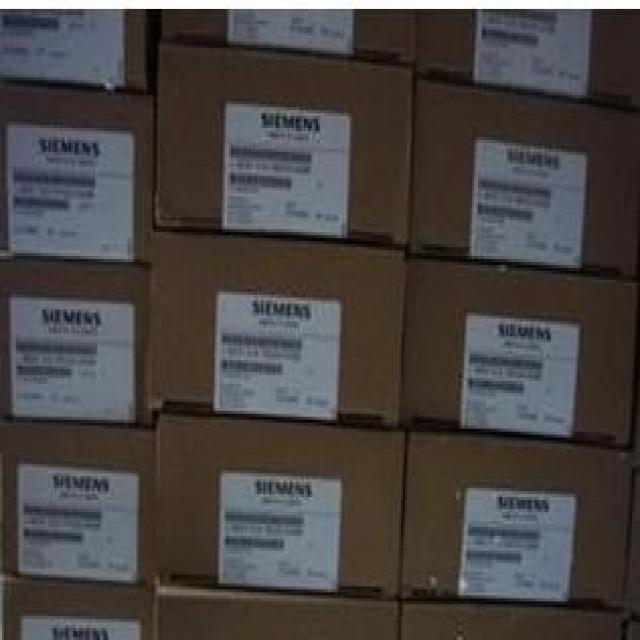box: (155, 45, 416, 246), (149, 226, 406, 425), (401, 250, 638, 446), (154, 417, 406, 599), (408, 81, 638, 277), (402, 427, 633, 611), (0, 83, 154, 265), (0, 253, 154, 430), (0, 420, 155, 588), (416, 11, 638, 107), (155, 11, 418, 65), (0, 6, 155, 94), (154, 588, 401, 637), (0, 580, 157, 637), (399, 601, 624, 637)
